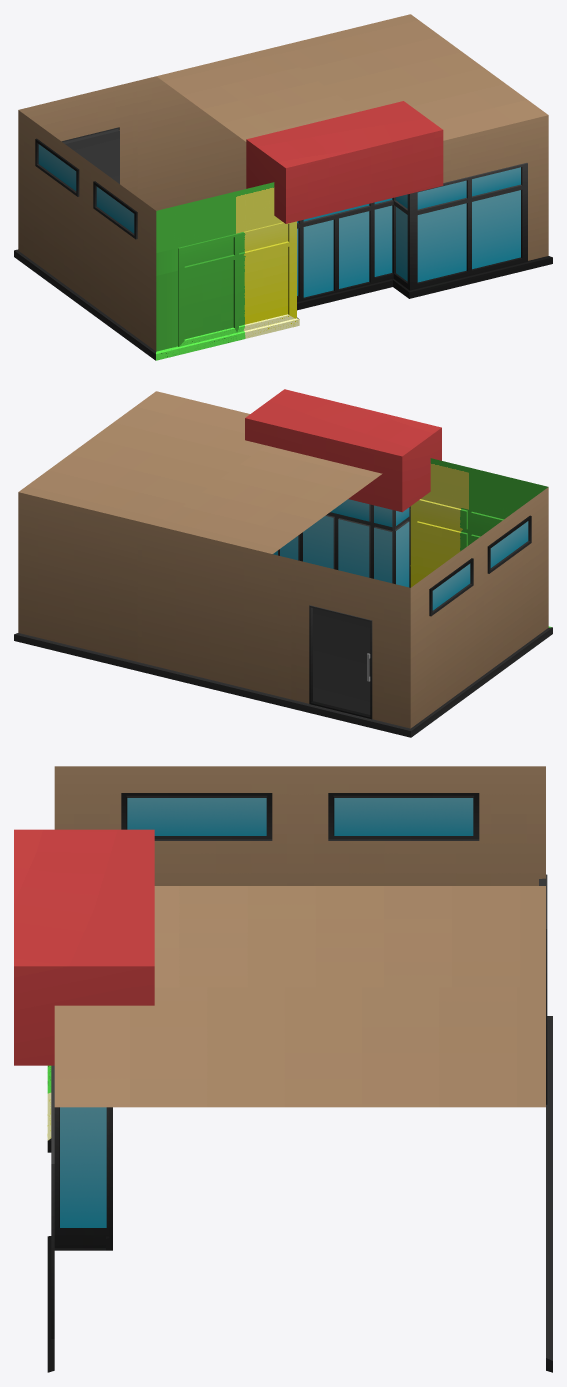
The model's file is supermarket.fbx.
3 renders of one model, top to bottom at view 1: azimuth 30°, elevation 25°; view 2: azimuth 150°, elevation 25°; view 3: azimuth 270°, elevation 25°, orthographic. The views are drawn at different scales.
Parts seen in each view (by area): view 1: pCube33, pCube28, polySurface1, pCube35, pCube34, pCube29, pCube30, pCube31, polySurface3; view 2: pCube34, polySurface1, pCube32, pCube31, pCube33, pCube35, pCube29, pCube30, pCube28, polySurface2; view 3: pCube33, polySurface1, pCube30, pCube35, pCube29, polySurface3, pCube31, pCube34, pCube32.
Boxes of the visible parts, left/top/right/bottom form: pCube33: left=273, top=14, right=552, bottom=298; pCube28: left=156, top=182, right=299, bottom=360; polySurface1: left=156, top=48, right=393, bottom=310; pCube35: left=246, top=101, right=443, bottom=223; pCube34: left=137, top=76, right=246, bottom=210; pCube29: left=85, top=160, right=156, bottom=360; pCube30: left=14, top=110, right=87, bottom=308; pCube31: left=15, top=81, right=137, bottom=250; polySurface3: left=392, top=194, right=409, bottom=298; pCube34: left=136, top=521, right=291, bottom=707; polySurface1: left=156, top=445, right=395, bottom=583; pCube32: left=14, top=492, right=137, bottom=670; pCube31: left=289, top=559, right=410, bottom=737; pCube33: left=18, top=391, right=277, bottom=555; pCube35: left=245, top=389, right=441, bottom=512; pCube29: left=479, top=487, right=552, bottom=685; pCube30: left=410, top=537, right=481, bottom=737; pCube28: left=410, top=458, right=551, bottom=627; polySurface2: left=392, top=506, right=410, bottom=587; pCube33: left=47, top=987, right=545, bottom=1372; polySurface1: left=106, top=886, right=545, bottom=1250; pCube30: left=300, top=766, right=550, bottom=1016; pCube35: left=14, top=829, right=154, bottom=1065; pCube29: left=54, top=766, right=300, bottom=885; polySurface3: left=49, top=1107, right=109, bottom=1250; pCube31: left=539, top=874, right=552, bottom=1121; pCube34: left=546, top=1120, right=552, bottom=1254; pCube32: left=546, top=1254, right=552, bottom=1372.
Bounding box in the file's own units: 1180 × 483 × 779.
Materials: 2 (2 with a texture image).
